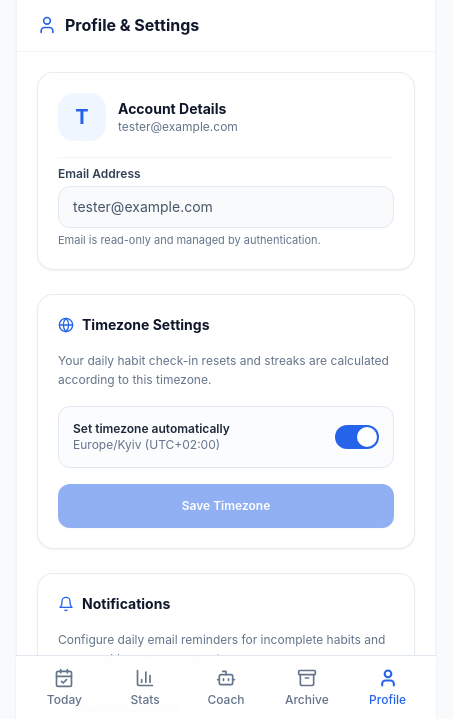
it: ProfilePage (Step 5.5) › updates timezone by switching off auto and selecting timezone and shows success message
Click the switch named "set timezone automatically" at (357, 436), box [335,424,379,448]
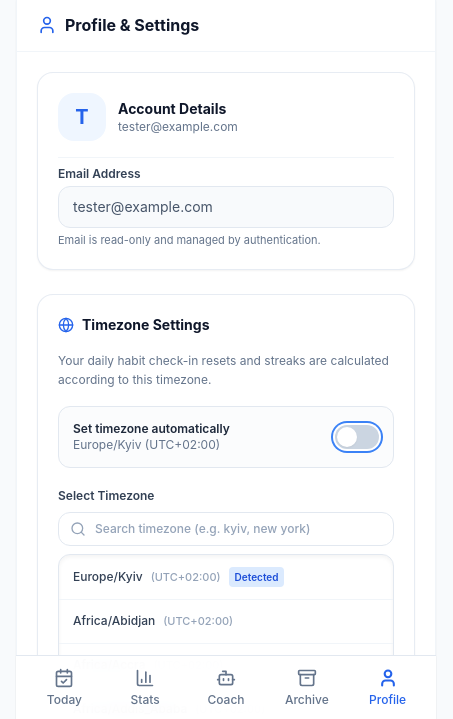
Type "warsaw" into the field with placeholder "Search timezone (e.g. kyiv, new york)" at (226, 528), box [58,512,394,546]
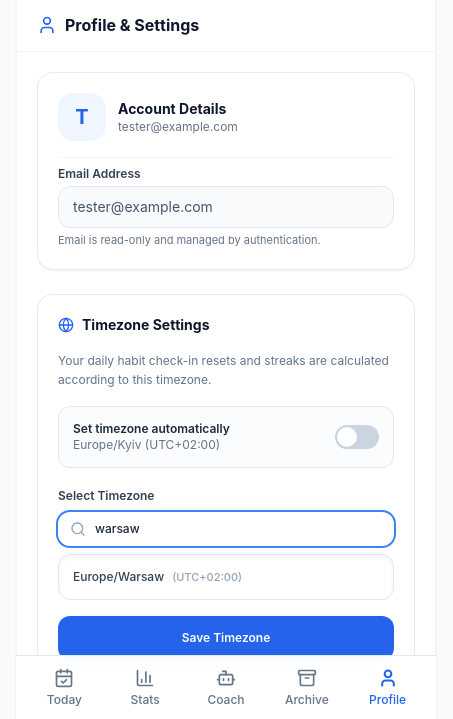
Click the option "Europe/Warsaw (UTC+02:00)" at (158, 576), box [73,568,242,584]
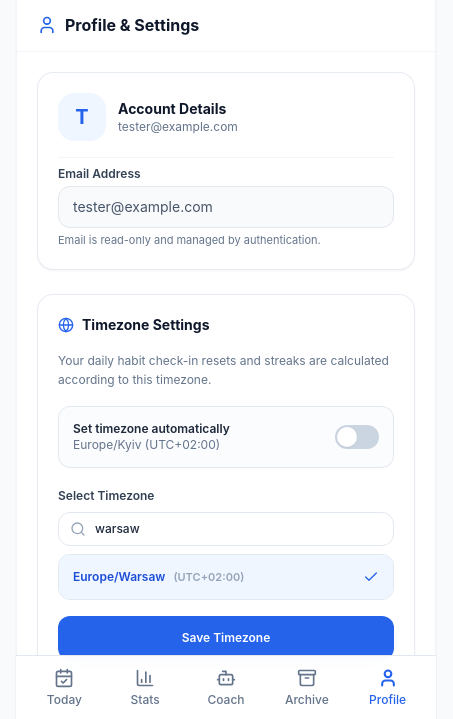
Expected: the button "Save Timezone" is enabled
Click the button "Save Timezone" at (226, 638), box [58,616,394,660]
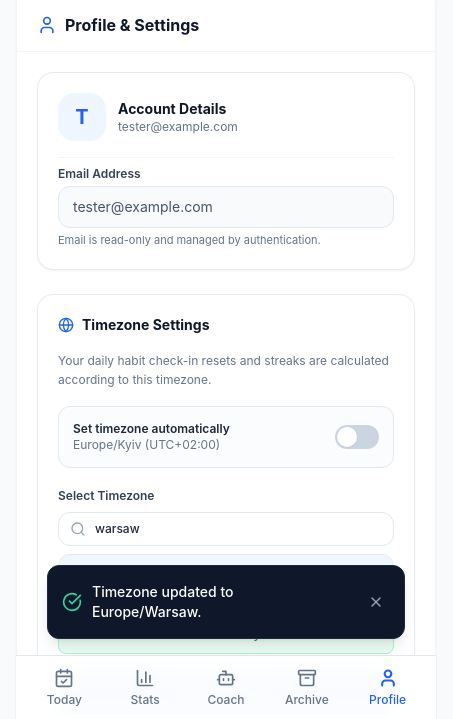
Expected: the text "Timezone updated to Europe/Warsaw." is shown, [92,583,234,620]
